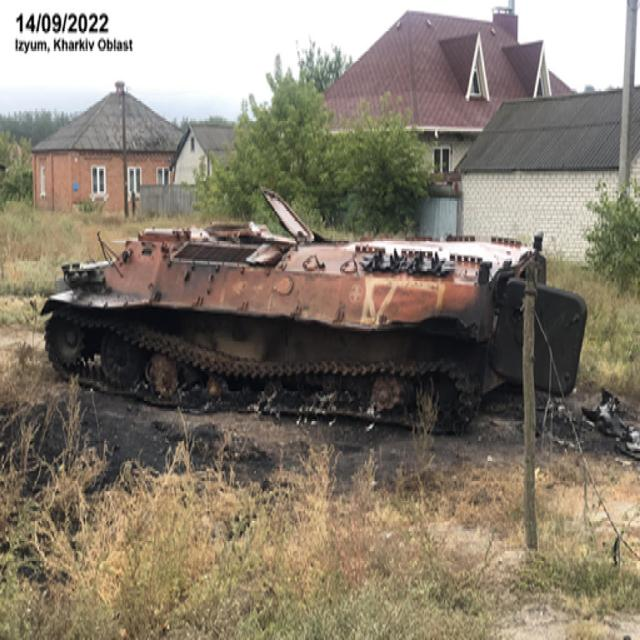APC-IFV: (42, 185, 588, 451)
